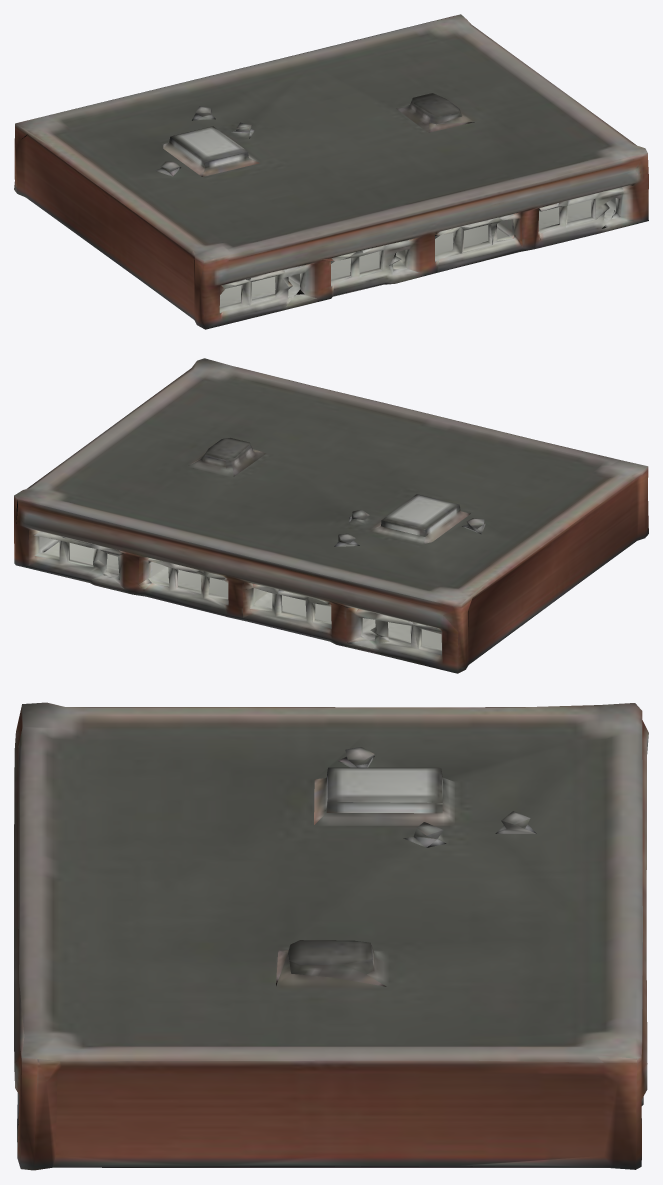
The model's file is gen_low2_retail_strip.glb.
The picture shows the model from 3 angles, top to bottom: view 1: azimuth 30°, elevation 25°; view 2: azimuth 150°, elevation 25°; view 3: azimuth 270°, elevation 25°; orthographic projection. The views are drawn at different scales.
Visible parts, largest first — view 1: gen_low2_retail_strip; view 2: gen_low2_retail_strip; view 3: gen_low2_retail_strip.
Part boxes in pixels (<box>): gen_low2_retail_strip: <box>14,14,648,329</box>; gen_low2_retail_strip: <box>14,358,648,673</box>; gen_low2_retail_strip: <box>14,702,648,1170</box>.
Bounding box in the file's own units: 30 × 5 × 22.56.
Materials: 1 (1 with a texture image).
